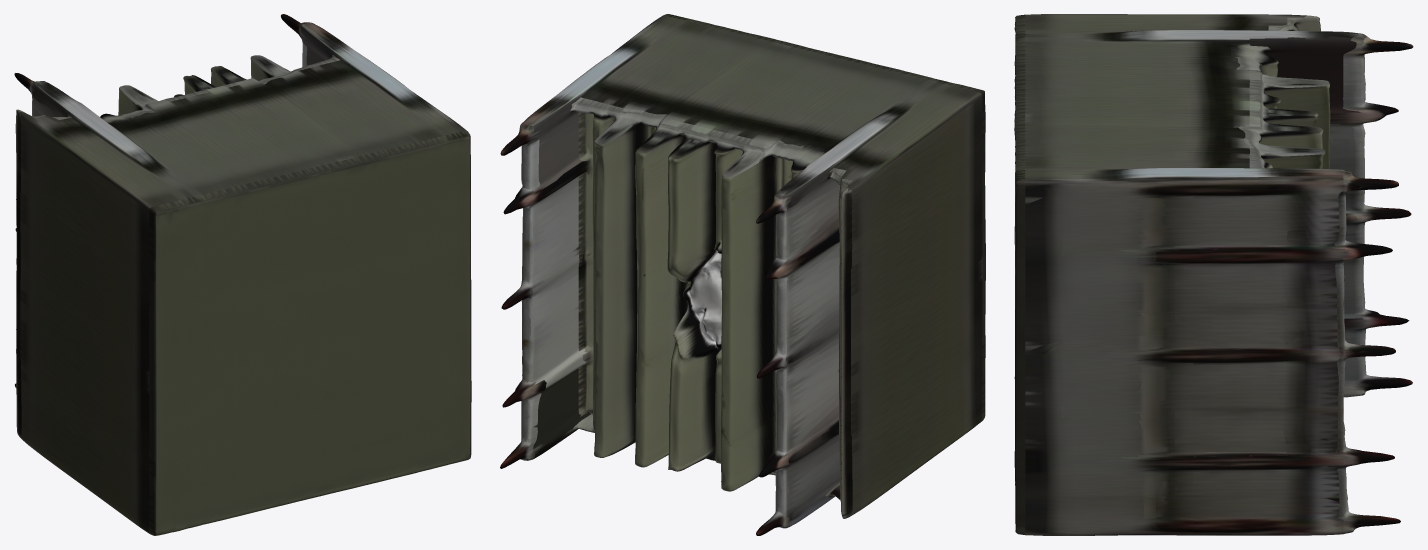
File: wall-industrial-damaged.glb
3 renders of one model, left to right at view 1: azimuth 30°, elevation 25°; view 2: azimuth 150°, elevation 25°; view 3: azimuth 270°, elevation 25°, orthographic. The views are drawn at different scales.
Visible parts, largest first — view 1: tmp3hc3s1k5.ply; view 2: tmp3hc3s1k5.ply; view 3: tmp3hc3s1k5.ply.
Boxes of the visible parts, x1,y1,x2,y2 form: tmp3hc3s1k5.ply: (14, 14, 471, 535); tmp3hc3s1k5.ply: (500, 14, 985, 535); tmp3hc3s1k5.ply: (1014, 14, 1413, 535).
Size of the model in its own units: 1 by 1 by 1.
Materials: 1 (1 with a texture image).
